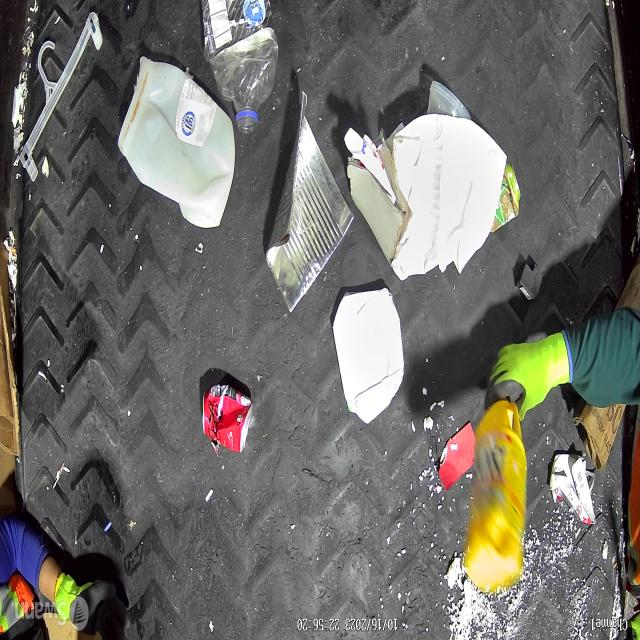can: (265, 89, 353, 312), (202, 384, 253, 455)
milk_jug: (118, 55, 236, 228)
non_white_jug: (466, 399, 528, 590)
plastic_bottle: (202, 0, 278, 134)
